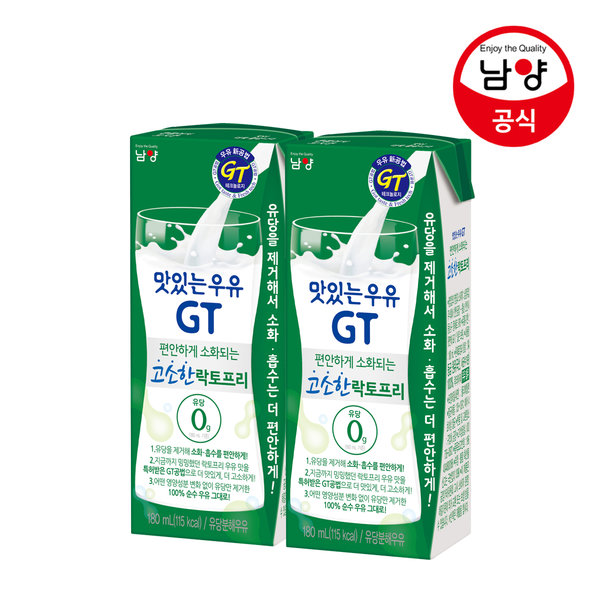milk: (128, 120, 476, 559)
